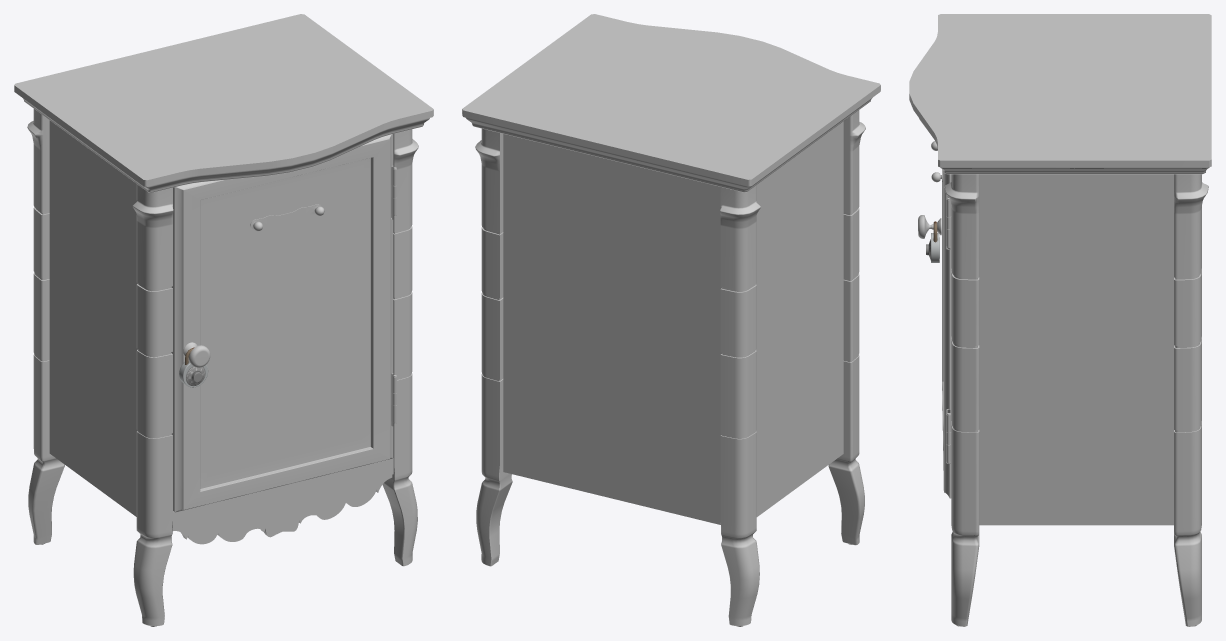
Rendered from cabinet_empty.fbx.
The picture shows the model from 3 angles, left to right: view 1: azimuth 30°, elevation 25°; view 2: azimuth 150°, elevation 25°; view 3: azimuth 270°, elevation 25°; orthographic projection. The views are drawn at different scales.
Visible parts, largest first — view 1: CabinetBox, Door; view 2: CabinetBox; view 3: CabinetBox, Door.
Part boxes in pixels (bbox=[...]): CabinetBox: bbox=[14, 14, 433, 626]; Door: bbox=[171, 134, 393, 512]; CabinetBox: bbox=[462, 14, 880, 626]; CabinetBox: bbox=[909, 14, 1211, 626]; Door: bbox=[918, 141, 950, 498].
Size of the model in its own units: 50.52 by 76.03 by 43.96.
